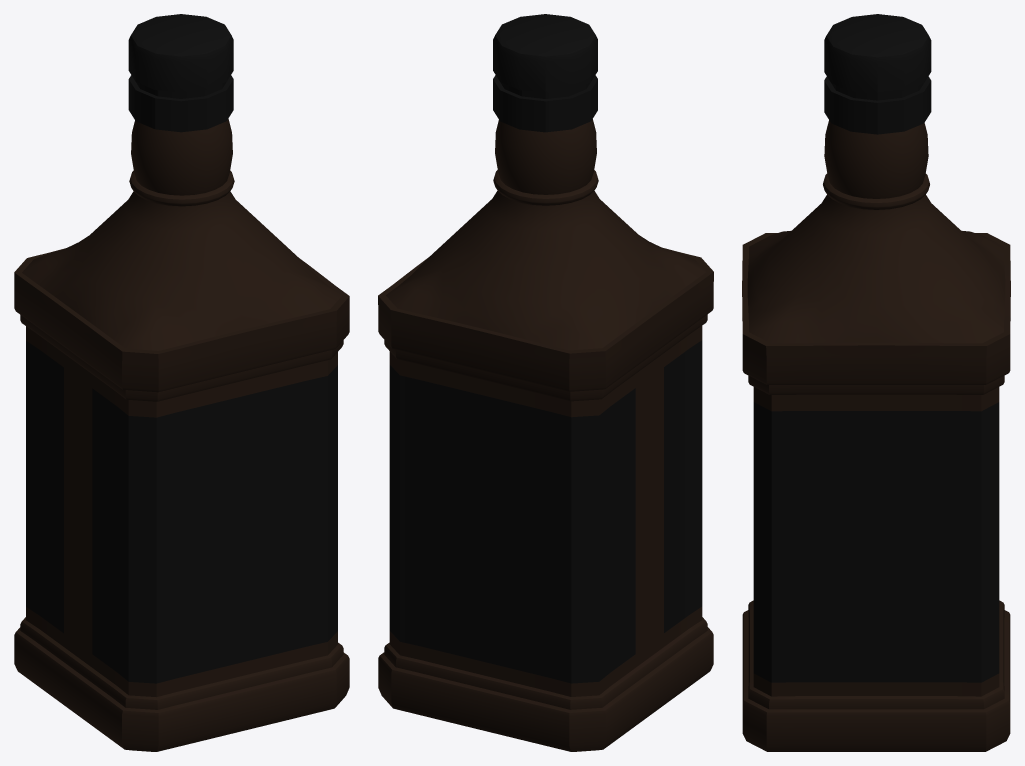
Rendered from Bottles_01.glb.
3 renders of one model, left to right at view 1: azimuth 30°, elevation 25°; view 2: azimuth 150°, elevation 25°; view 3: azimuth 270°, elevation 25°, orthographic. The views are drawn at different scales.
Parts seen in each view (by area): view 1: Mesh_Bottles_01; view 2: Mesh_Bottles_01; view 3: Mesh_Bottles_01.
Boxes of the visible parts, box(x1,y1,x2,y2) form: Mesh_Bottles_01: box(14, 14, 349, 751); Mesh_Bottles_01: box(378, 14, 713, 751); Mesh_Bottles_01: box(742, 14, 1010, 751).
Size of the model in its own units: 0.0928 by 0.2538 by 0.0928.
1 material, 1 textured.
